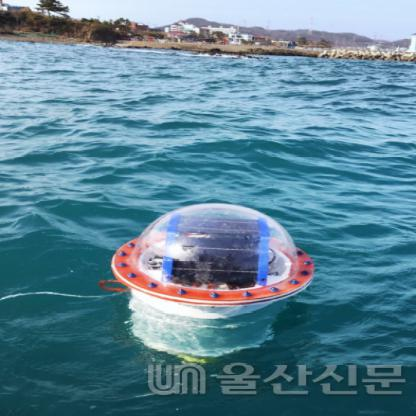buoy: (94, 189, 311, 360)
